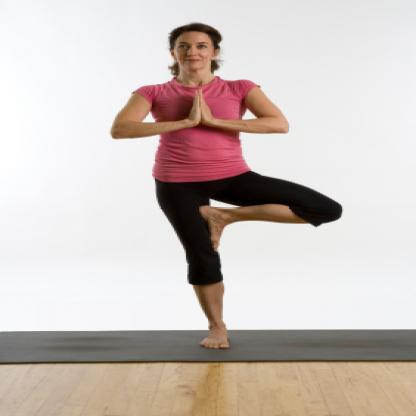tree: (92, 17, 354, 364)
